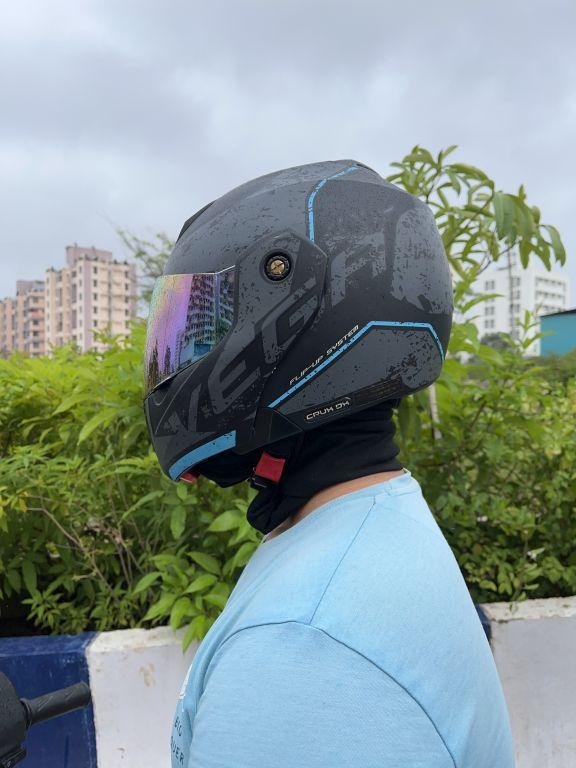helmet: (134, 147, 457, 497)
